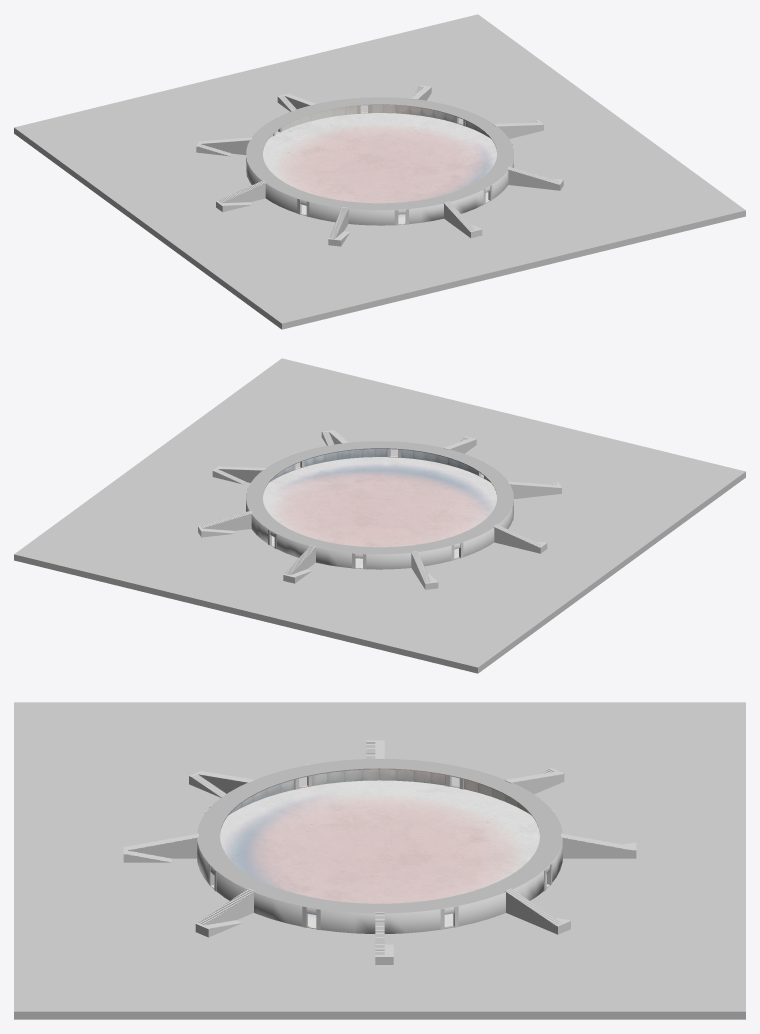
The model's file is gallery1.fbx.
The picture shows the model from 3 angles, top to bottom: view 1: azimuth 30°, elevation 25°; view 2: azimuth 150°, elevation 25°; view 3: azimuth 270°, elevation 25°; orthographic projection. The views are drawn at different scales.
Parts seen in each view (by area): view 1: Cube.002, Cylinder, space_out, stiars1, space_in; view 2: Cube.002, Cylinder, space_out, stiars1, space_in; view 3: Cube.002, Cylinder, space_out, stiars1, space_in.
Boxes of the visible parts, x1,y1,x2,y2 form: Cube.002: (14,14,745,329); Cylinder: (263,113,496,223); space_out: (246,97,513,225); stiars1: (196,85,563,246); space_in: (246,104,496,224); Cube.002: (14,358,745,673); Cylinder: (263,457,496,567); space_out: (246,441,513,569); stiars1: (198,430,561,589); space_in: (263,448,496,568); Cube.002: (14,702,745,1019); Cylinder: (213,780,546,927); space_out: (197,759,562,933); stiars1: (123,740,636,964); space_in: (211,768,549,928).
Size of the model in its own units: 16000 by 710 by 16000.
